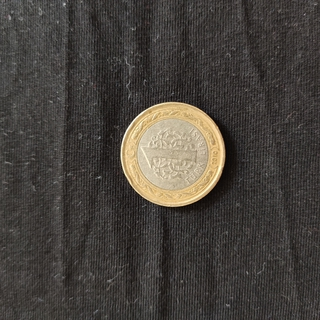1TL: (119, 100, 227, 210)
